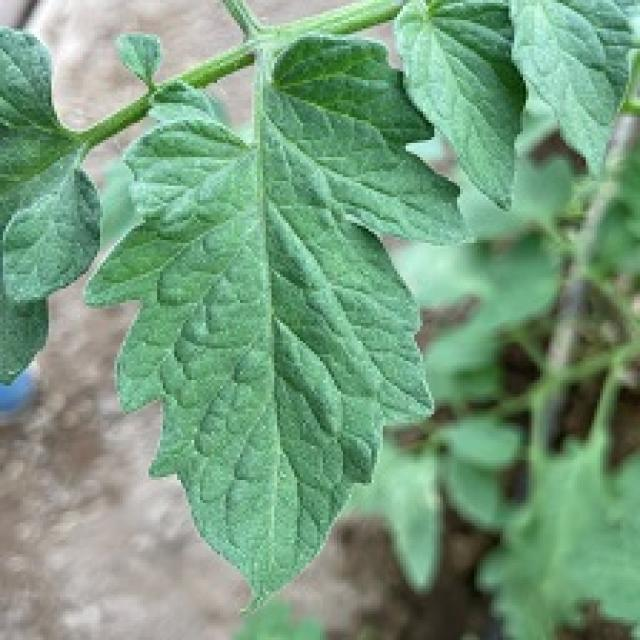Healthy: (0, 7, 591, 616), (387, 0, 549, 221)
